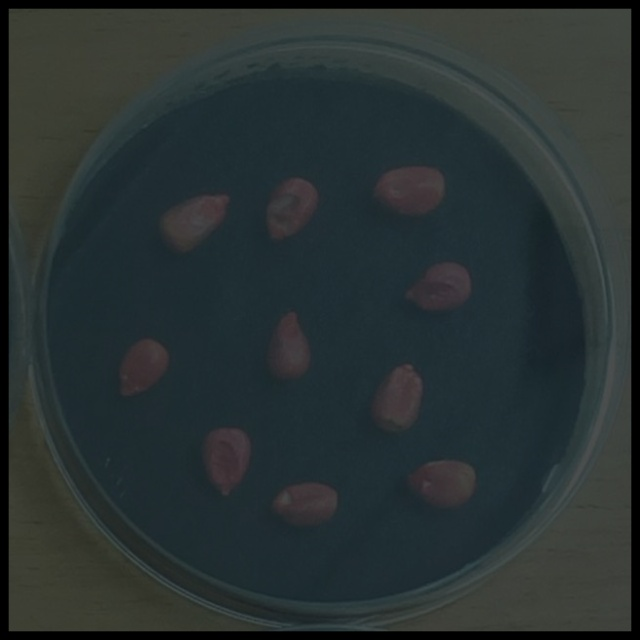Zea mays: (151, 185, 238, 262), (362, 356, 429, 441), (394, 254, 478, 320), (397, 453, 482, 518), (258, 171, 325, 253), (364, 160, 451, 223), (194, 421, 259, 505), (258, 303, 318, 388), (261, 476, 343, 535), (111, 334, 175, 407)
